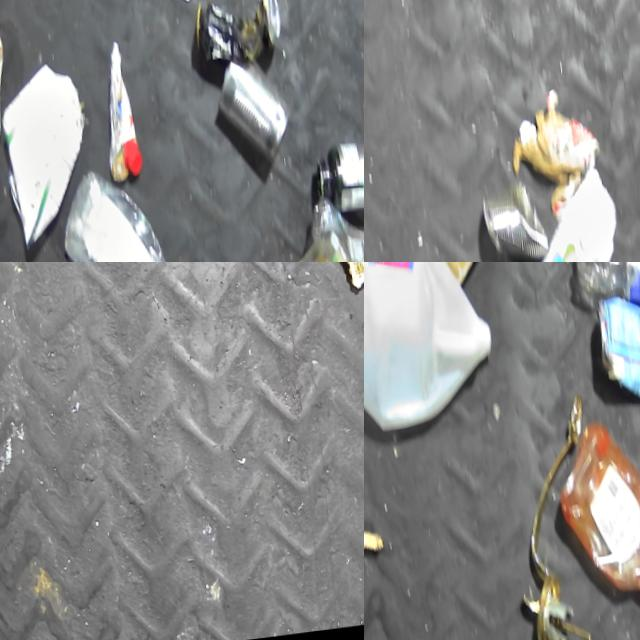can: (208, 65, 287, 176), (185, 0, 280, 78), (589, 300, 640, 420), (471, 185, 543, 262)
milk_jug: (509, 174, 620, 262)
non_white_jug: (364, 262, 496, 441), (542, 422, 640, 640), (398, 262, 505, 299)
plastic_bottle: (48, 165, 180, 262), (569, 262, 640, 331), (299, 201, 364, 262)
